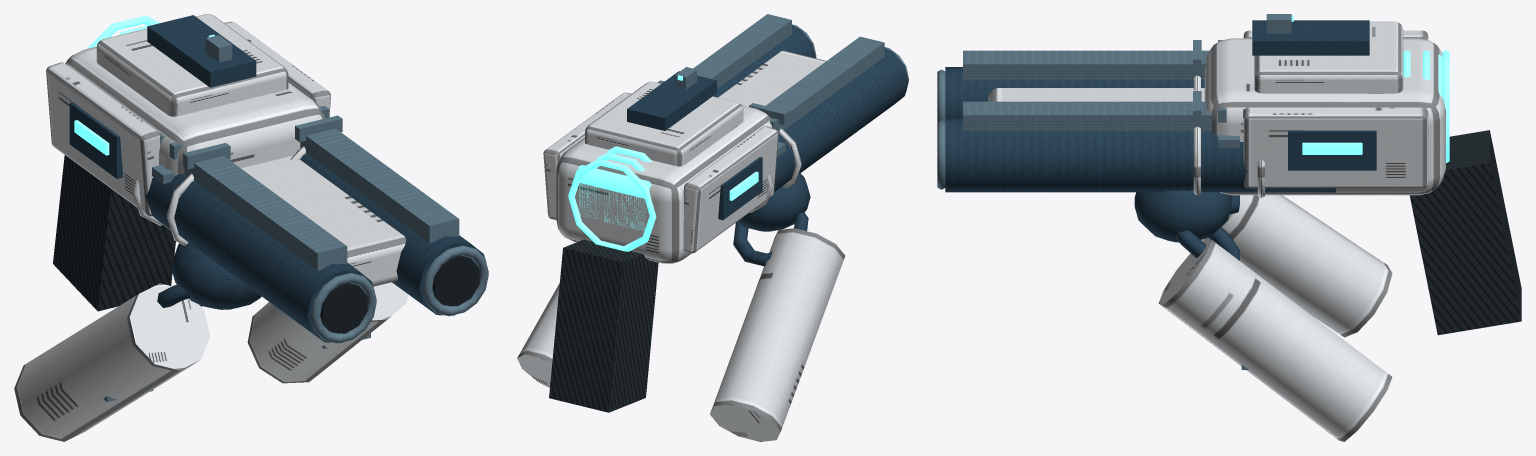
Rendered from first-person-shotgun-lod1.glb.
3 renders of one model, left to right at view 1: azimuth 30°, elevation 25°; view 2: azimuth 150°, elevation 25°; view 3: azimuth 270°, elevation 25°, orthographic. The views are drawn at different scales.
Visible parts, largest first — view 1: viewmodel:forearm:-1, weapon:grip, weapon:barrel-shroud:-1, weapon:receiver, weapon:receiver:top-armour, weapon:bridge, weapon:side-plate:-1, weapon:barrel-rail:-1, weapon:barrel-rail:1, viewmodel:forearm:1, weapon:sight:base, weapon:barrel-shroud:1 (+14 smaller); view 2: viewmodel:forearm:-1, weapon:grip, weapon:receiver, weapon:barrel-shroud:-1, weapon:receiver:top-armour, weapon:side-plate:-1, weapon:barrel-rail:-1, weapon:barrel-rail:1, weapon:sight:base, weapon:bridge, viewmodel:hand:-1, viewmodel:forearm:1 (+7 smaller); view 3: viewmodel:forearm:1, weapon:barrel-shroud:1, weapon:grip, viewmodel:forearm:-1, weapon:side-plate:1, weapon:receiver, weapon:barrel-rail:1, weapon:barrel-rail:-1, weapon:receiver:top-armour, viewmodel:hand:1, weapon:sight:base, weapon:barrel-shroud:-1 (+6 smaller).
Part boxes in pixels (x1,y1,x2,y2): viewmodel:forearm:-1: [14, 283, 210, 441]; weapon:grip: [53, 155, 175, 311]; weapon:barrel-shroud:-1: [145, 173, 376, 342]; weapon:receiver: [65, 46, 325, 230]; weapon:receiver:top-armour: [96, 14, 288, 116]; weapon:bridge: [241, 155, 405, 286]; weapon:side-plate:-1: [46, 62, 160, 216]; weapon:barrel-rail:-1: [184, 156, 347, 270]; weapon:barrel-rail:1: [300, 128, 459, 243]; viewmodel:forearm:1: [247, 282, 408, 383]; weapon:sight:base: [147, 15, 256, 87]; weapon:barrel-shroud:1: [296, 150, 484, 315]; viewmodel:forearm:-1: [710, 228, 845, 441]; weapon:grip: [549, 239, 658, 412]; weapon:receiver: [556, 105, 772, 263]; weapon:barrel-shroud:-1: [774, 48, 908, 192]; weapon:receiver:top-armour: [585, 81, 743, 166]; weapon:side-plate:-1: [683, 126, 778, 253]; weapon:barrel-rail:-1: [765, 36, 884, 133]; weapon:barrel-rail:1: [693, 14, 791, 88]; weapon:sight:base: [627, 71, 716, 130]; weapon:bridge: [718, 50, 825, 106]; viewmodel:hand:-1: [737, 173, 810, 231]; viewmodel:forearm:1: [517, 283, 559, 387]; viewmodel:forearm:1: [1158, 238, 1392, 441]; weapon:barrel-shroud:1: [945, 118, 1335, 192]; weapon:grip: [1409, 130, 1521, 335]; viewmodel:forearm:-1: [1201, 195, 1392, 337]; weapon:side-plate:1: [1243, 107, 1428, 188]; weapon:receiver: [1204, 38, 1445, 195]; weapon:barrel-rail:1: [963, 101, 1213, 131]; weapon:barrel-rail:-1: [963, 50, 1208, 80]; weapon:receiver:top-armour: [1254, 21, 1403, 93]; viewmodel:hand:1: [1134, 190, 1231, 242]; weapon:sight:base: [1252, 20, 1369, 55]; weapon:barrel-shroud:-1: [945, 67, 1204, 117].
Size of the model in its own units: 0.3992 by 0.4812 by 0.6909.
Materials: 6 (4 with a texture image).
